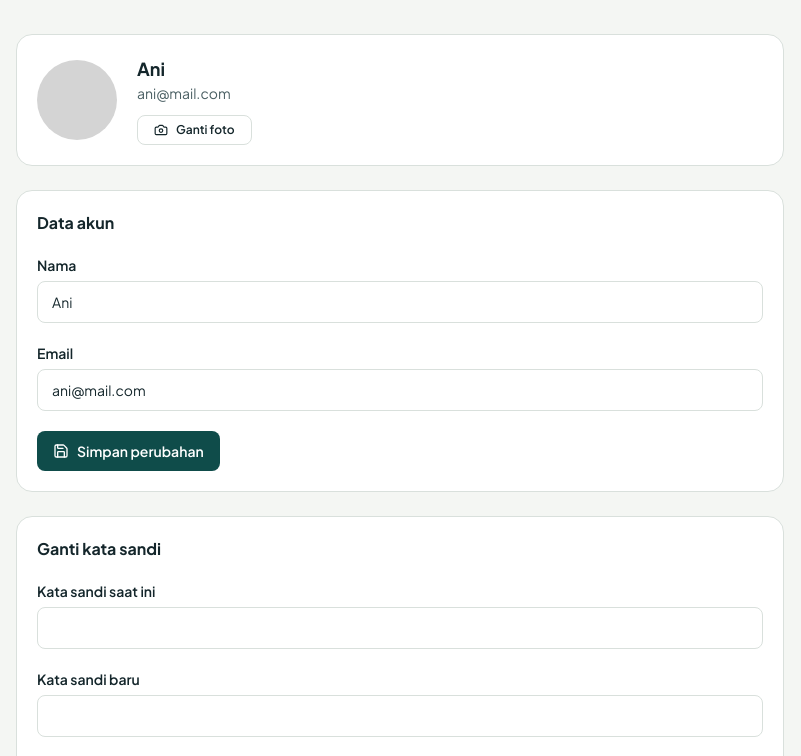
Test: ProfilePage › kata sandi › validasi form kata sandi
Step 1. Type "123" into the password field labelled "Kata sandi baru" → (400, 716), box [37,695,763,737]
(page scrolled)
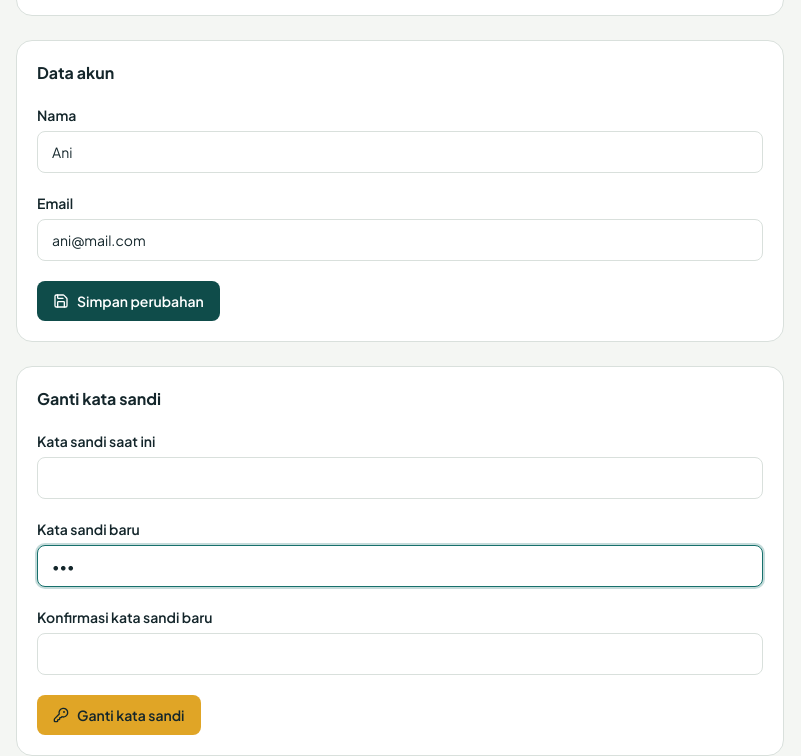
Step 2. Type "456" into the password field labelled "Konfirmasi kata sandi baru" → (400, 654), box [37,633,763,675]
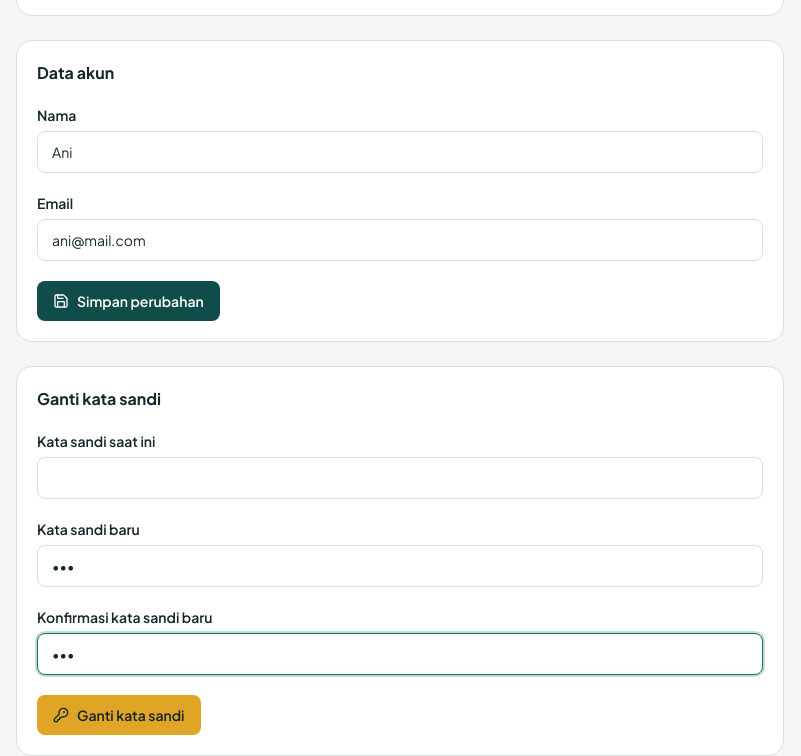
Step 3. Click the button "Ganti kata sandi" → click(119, 715), box [37,695,200,735]
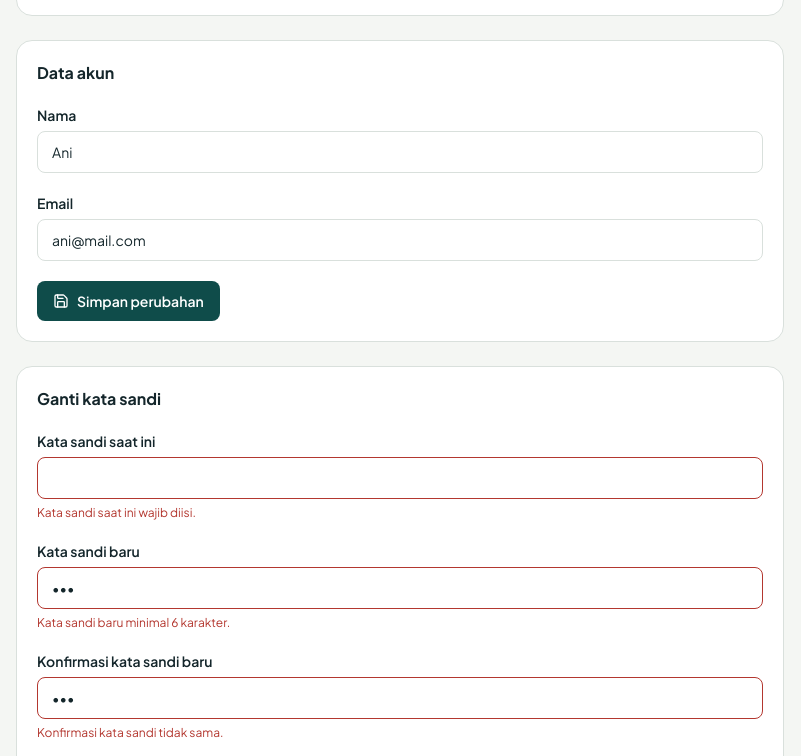
expect the text "Kata sandi saat ini wajib diisi." is shown: met, box [37,505,196,520]
expect the text "Kata sandi baru minimal 6 karakter." is shown: met, box [37,615,230,630]
expect the text "Konfirmasi kata sandi tidak sama." is shown: met, box [37,725,224,740]
